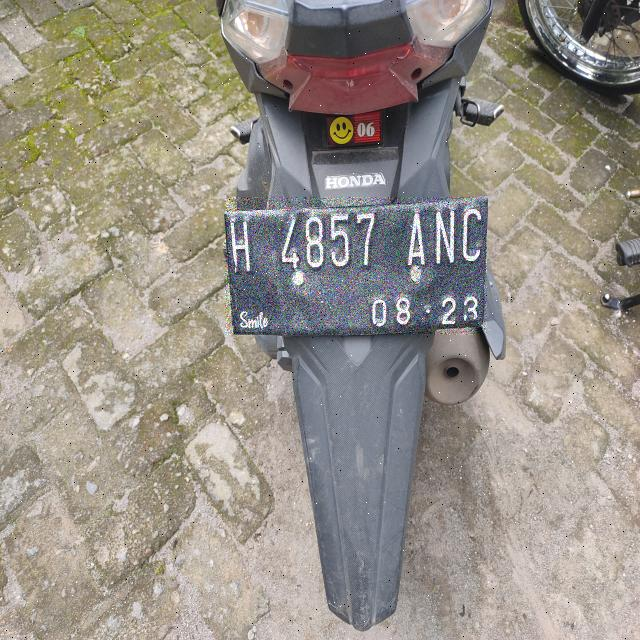plate: (226, 198, 486, 334)
